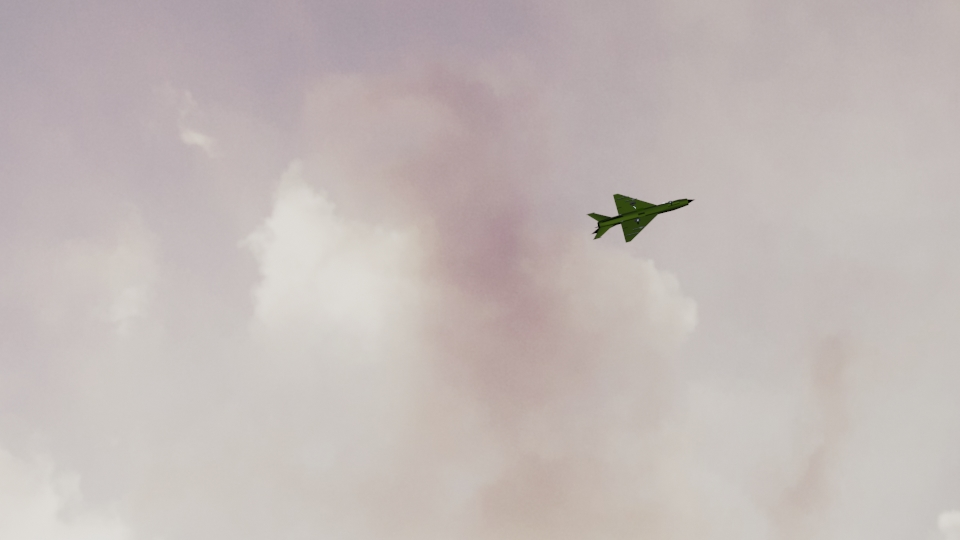plane: (588, 191, 693, 241)
